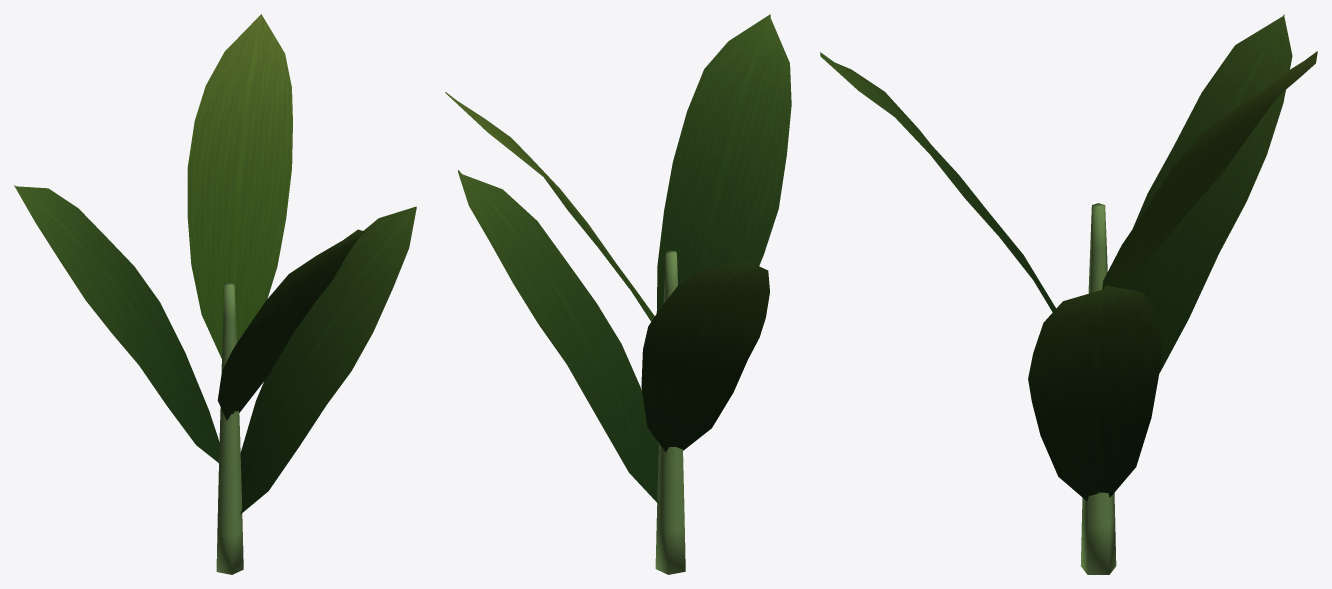
The model's file is tulip-03-lod.glb.
3 views of the same model, side by side, from view 1: azimuth 30°, elevation 25°; view 2: azimuth 150°, elevation 25°; view 3: azimuth 270°, elevation 25° (orthographic). The views are drawn at different scales.
Parts seen in each view (by area): view 1: tulip_stage_03_leaf_veins.005, tulip_stage_03_young_leaf.005, tulip_stage_03_stem_fibres.005; view 2: tulip_stage_03_leaf_veins.005, tulip_stage_03_stem_fibres.005, tulip_stage_03_young_leaf.005; view 3: tulip_stage_03_leaf_veins.005, tulip_stage_03_young_leaf.005, tulip_stage_03_stem_fibres.005.
Part boxes in pixels (left/top/right/bottom): tulip_stage_03_leaf_veins.005: left=14, top=185, right=416, bottom=514; tulip_stage_03_young_leaf.005: left=187, top=14, right=292, bottom=358; tulip_stage_03_stem_fibres.005: left=216, top=282, right=243, bottom=574; tulip_stage_03_leaf_veins.005: left=458, top=14, right=791, bottom=504; tulip_stage_03_stem_fibres.005: left=655, top=250, right=685, bottom=574; tulip_stage_03_young_leaf.005: left=445, top=92, right=654, bottom=321; tulip_stage_03_leaf_veins.005: left=820, top=14, right=1292, bottom=501; tulip_stage_03_young_leaf.005: left=1102, top=51, right=1317, bottom=289; tulip_stage_03_stem_fibres.005: left=1081, top=203, right=1116, bottom=574.
Size of the model in its own units: 0.1049 by 0.1399 by 0.1067.
3 materials, 2 textured.
